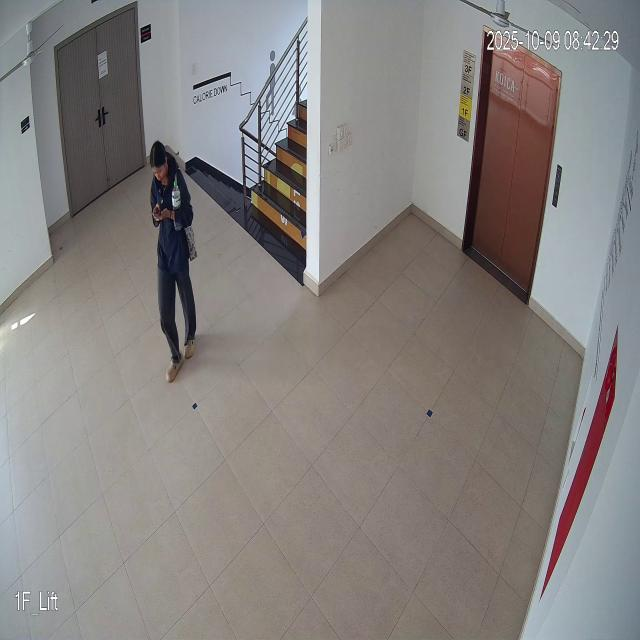face: (144, 139, 178, 190)
